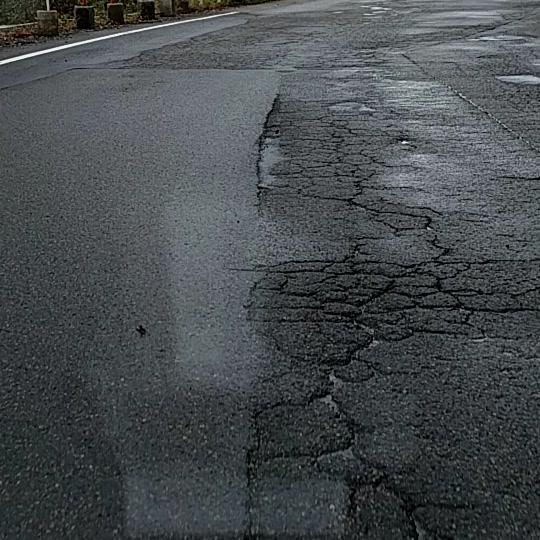D20: (241, 67, 539, 531)
